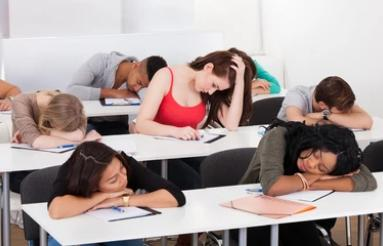sleep: (237, 120, 377, 193), (48, 143, 186, 215), (64, 48, 168, 106), (13, 89, 97, 152), (277, 74, 369, 131)
study: (137, 51, 243, 137)
